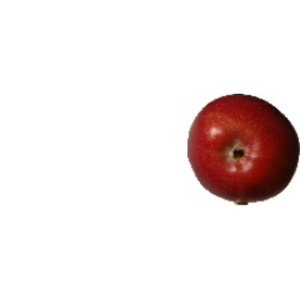maçã braeburn: (186, 92, 299, 202)
